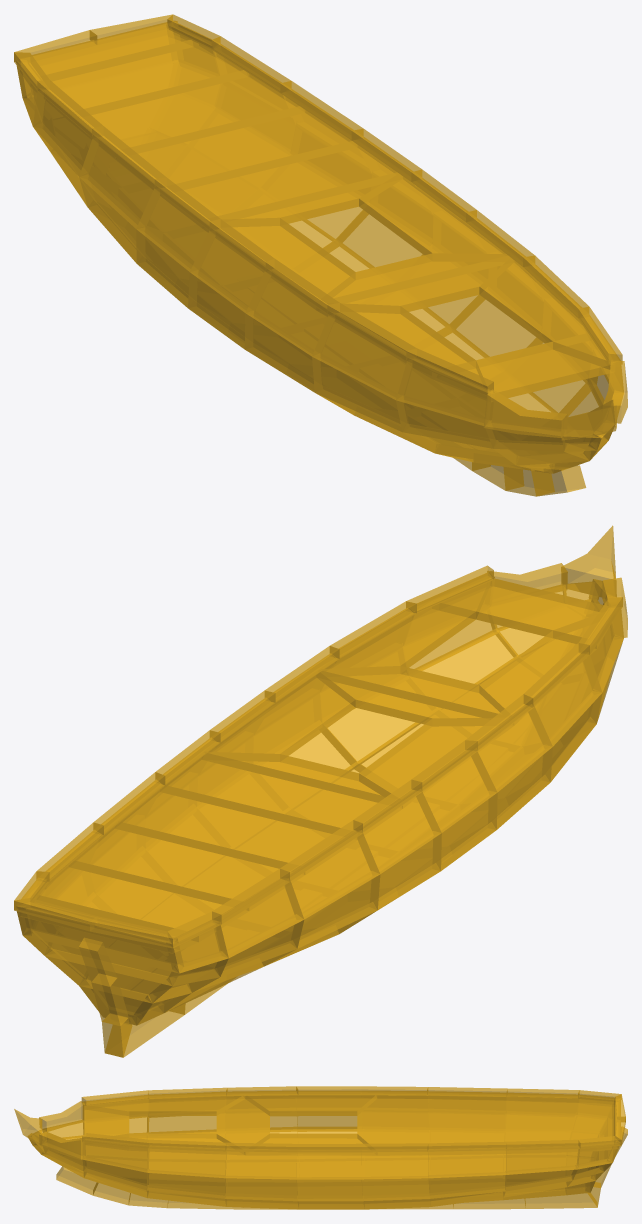
File: SM_Veh_Ship_M_Hull_02_Collision.fbx
The picture shows the model from 3 angles, top to bottom: view 1: azimuth 30°, elevation 25°; view 2: azimuth 150°, elevation 25°; view 3: azimuth 270°, elevation 25°; orthographic projection. The views are drawn at different scales.
Parts seen in each view (by area): view 1: SM_Veh_Ship_M_Hull_02_Collision; view 2: SM_Veh_Ship_M_Hull_02_Collision; view 3: SM_Veh_Ship_M_Hull_02_Collision.
Boxes of the visible parts, x1,y1,x2,y2 form: SM_Veh_Ship_M_Hull_02_Collision: (14,14,627,496); SM_Veh_Ship_M_Hull_02_Collision: (14,525,627,1057); SM_Veh_Ship_M_Hull_02_Collision: (14,1086,627,1209).
Bounding box in the file's own units: 825 × 524 × 2965.
